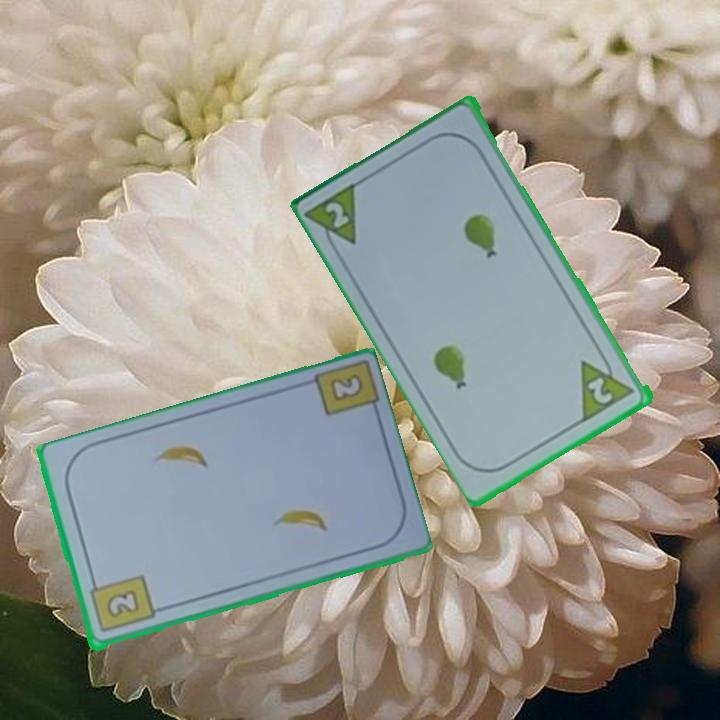2b: (85, 572, 157, 637), (329, 374, 363, 402)
2p: (584, 373, 617, 408), (322, 198, 353, 232)
